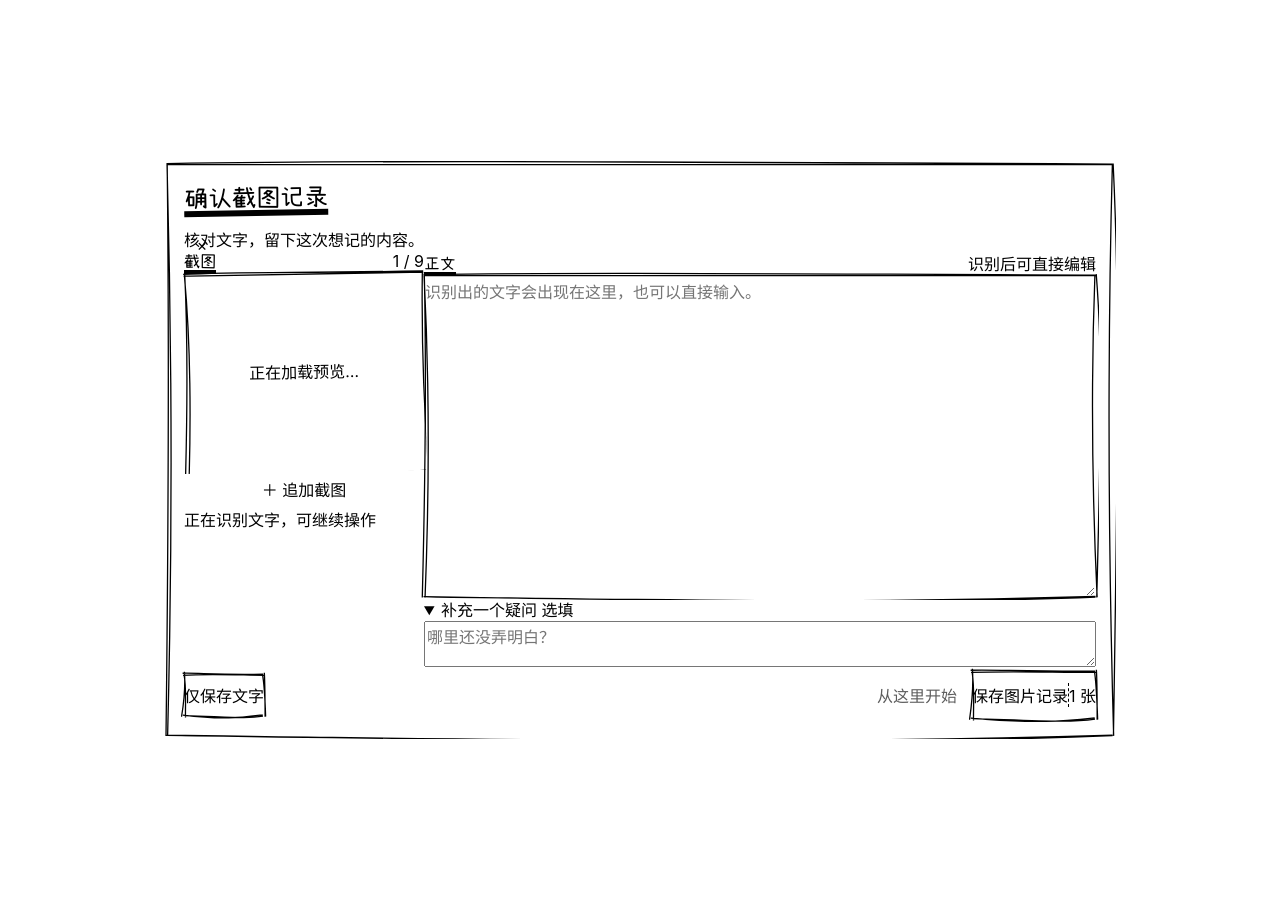
Test: CaptureConfirmOverlay › 追加失败显示错误而不是静默退出
Click the button with aria-label "追加截图（1/9）" at [304, 489], box x1=184 y1=471 x2=424 y2=507
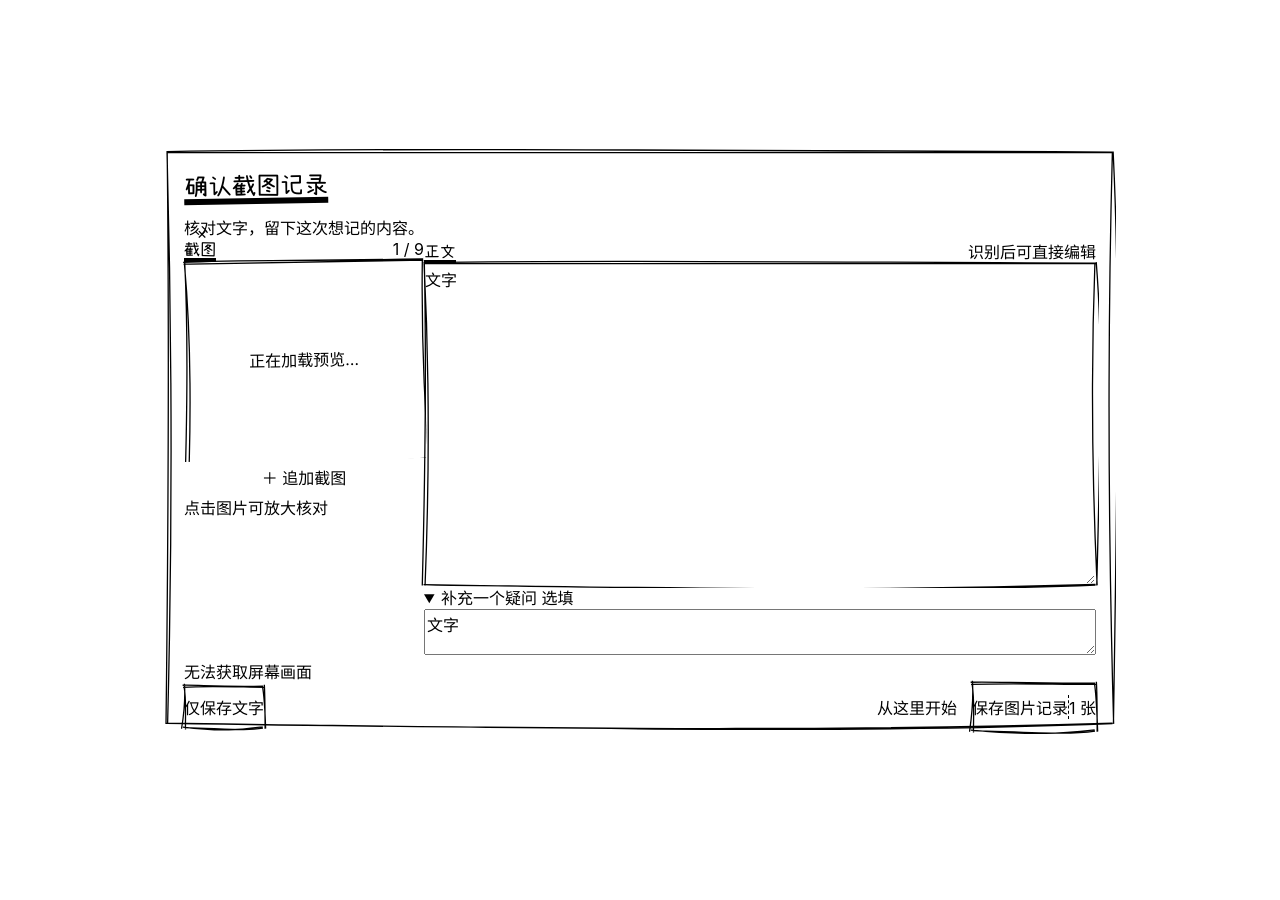
Expected: the button with aria-label "追加截图（1/9）" is enabled, x1=184 y1=459 x2=424 y2=495
Expected: the text "无法获取屏幕画面" is shown, x1=184 y1=662 x2=312 y2=682
